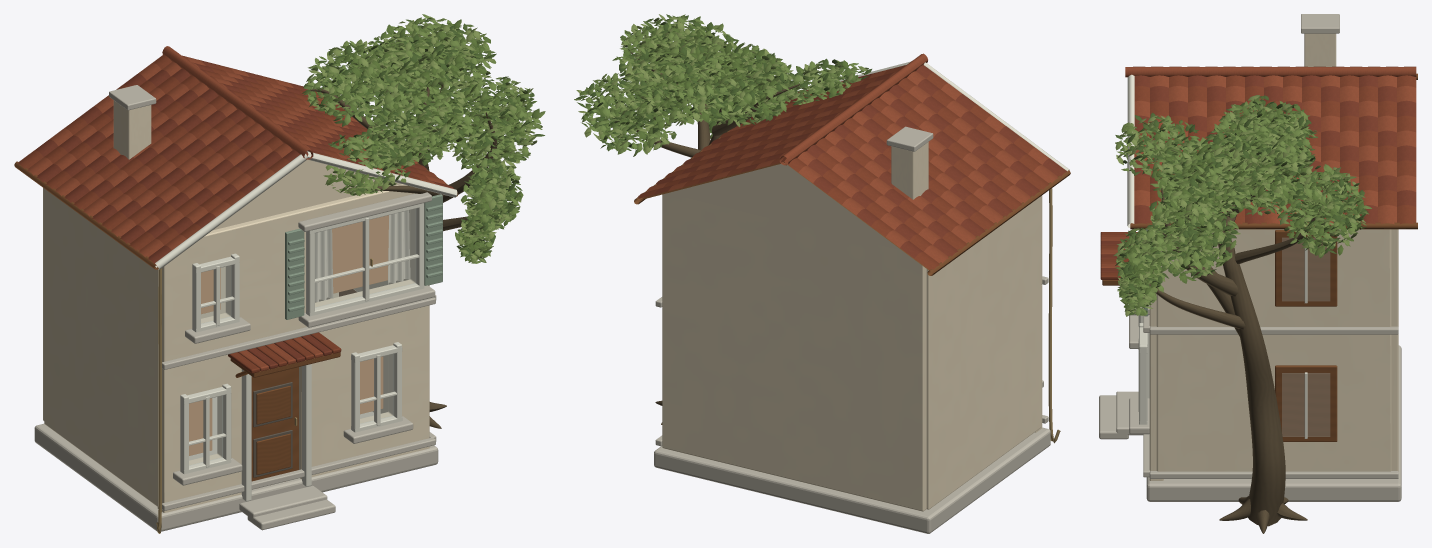
Rendered from exterior-house-tree.glb.
3 renders of one model, left to right at view 1: azimuth 30°, elevation 25°; view 2: azimuth 150°, elevation 25°; view 3: azimuth 270°, elevation 25°, orthographic. The views are drawn at different scales.
Visible parts, largest first — view 1: house / Lime plaster, house / Warm limestone, Botanical canopy 1, roof / Clay 1, roof / Clay 2, roof / Clay 0, Botanical canopy 0, house / Ivory painted joinery, Botanical canopy 2, Botanical canopy 3, upper_window / Clear warm glazing, house / Oak (+17 smaller); view 2: house / Lime plaster, roof / Clay 1, roof / Clay 2, roof / Clay 0, Botanical canopy 1, house / Warm limestone, Botanical canopy 0, Botanical canopy 2, Botanical canopy 3, roof / Lime plaster, roof / Oak, tree_structure / Bark (+3 smaller); view 3: house / Lime plaster, Botanical canopy 1, house / Warm limestone, tree_structure / Bark, roof / Clay 1, Botanical canopy 0, house / Oak, roof / Clay 2, roof / Clay 0, Botanical canopy 2, Botanical canopy 3, house / Clear warm glazing (+6 smaller).
Part boxes in pixels (<box>): house / Lime plaster: <box>43,159,429,512</box>; house / Warm limestone: <box>34,295,438,531</box>; Botanical canopy 1: <box>304,14,545,263</box>; roof / Clay 1: <box>27,46,445,257</box>; roof / Clay 2: <box>34,60,453,265</box>; roof / Clay 0: <box>18,55,436,250</box>; Botanical canopy 0: <box>302,17,542,262</box>; house / Ivory painted joinery: <box>180,253,402,501</box>; Botanical canopy 2: <box>306,18,538,263</box>; Botanical canopy 3: <box>307,18,544,262</box>; upper_window / Clear warm glazing: <box>315,209,415,307</box>; house / Oak: <box>230,289,356,481</box>; house / Lime plaster: <box>662,164,1042,511</box>; roof / Clay 1: <box>646,53,1058,263</box>; roof / Clay 2: <box>654,65,1067,258</box>; roof / Clay 0: <box>636,65,1049,269</box>; Botanical canopy 1: <box>574,14,868,156</box>; house / Warm limestone: <box>654,276,1050,533</box>; Botanical canopy 0: <box>579,15,861,150</box>; Botanical canopy 2: <box>576,14,867,153</box>; Botanical canopy 3: <box>576,14,871,152</box>; roof / Lime plaster: <box>891,142,928,199</box>; roof / Oak: <box>634,130,1070,275</box>; tree_structure / Bark: <box>631,53,799,424</box>; house / Lime plaster: <box>1149,229,1398,480</box>; Botanical canopy 1: <box>1115,96,1371,315</box>; house / Warm limestone: <box>1099,315,1401,501</box>; tree_structure / Bark: <box>1145,170,1320,533</box>; roof / Clay 1: <box>1125,66,1416,224</box>; Botanical canopy 0: <box>1115,96,1366,315</box>; house / Oak: <box>1102,230,1337,441</box>; roof / Clay 2: <box>1134,75,1416,224</box>; roof / Clay 0: <box>1134,75,1416,224</box>; Botanical canopy 2: <box>1113,95,1367,316</box>; Botanical canopy 3: <box>1115,95,1368,315</box>; house / Clear warm glazing: <box>1282,238,1329,436</box>.
Bounding box in the file's own units: 6.88 × 6.28 × 4.48.
18 materials, 10 textured.
